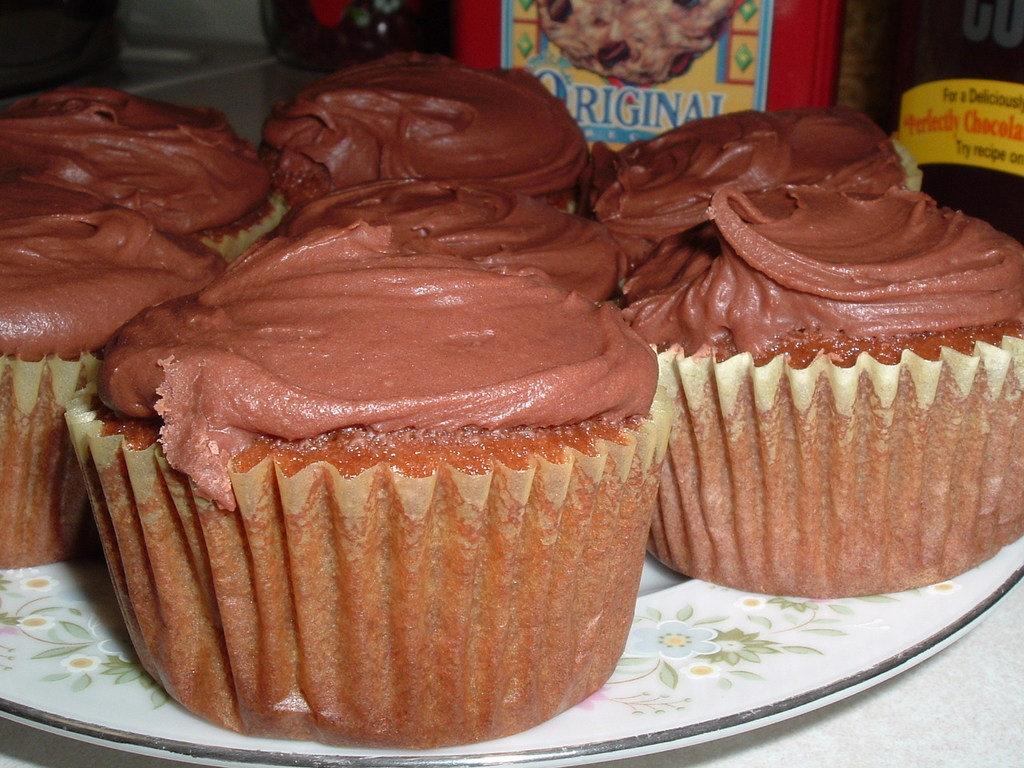face: (550, 0, 727, 91)
